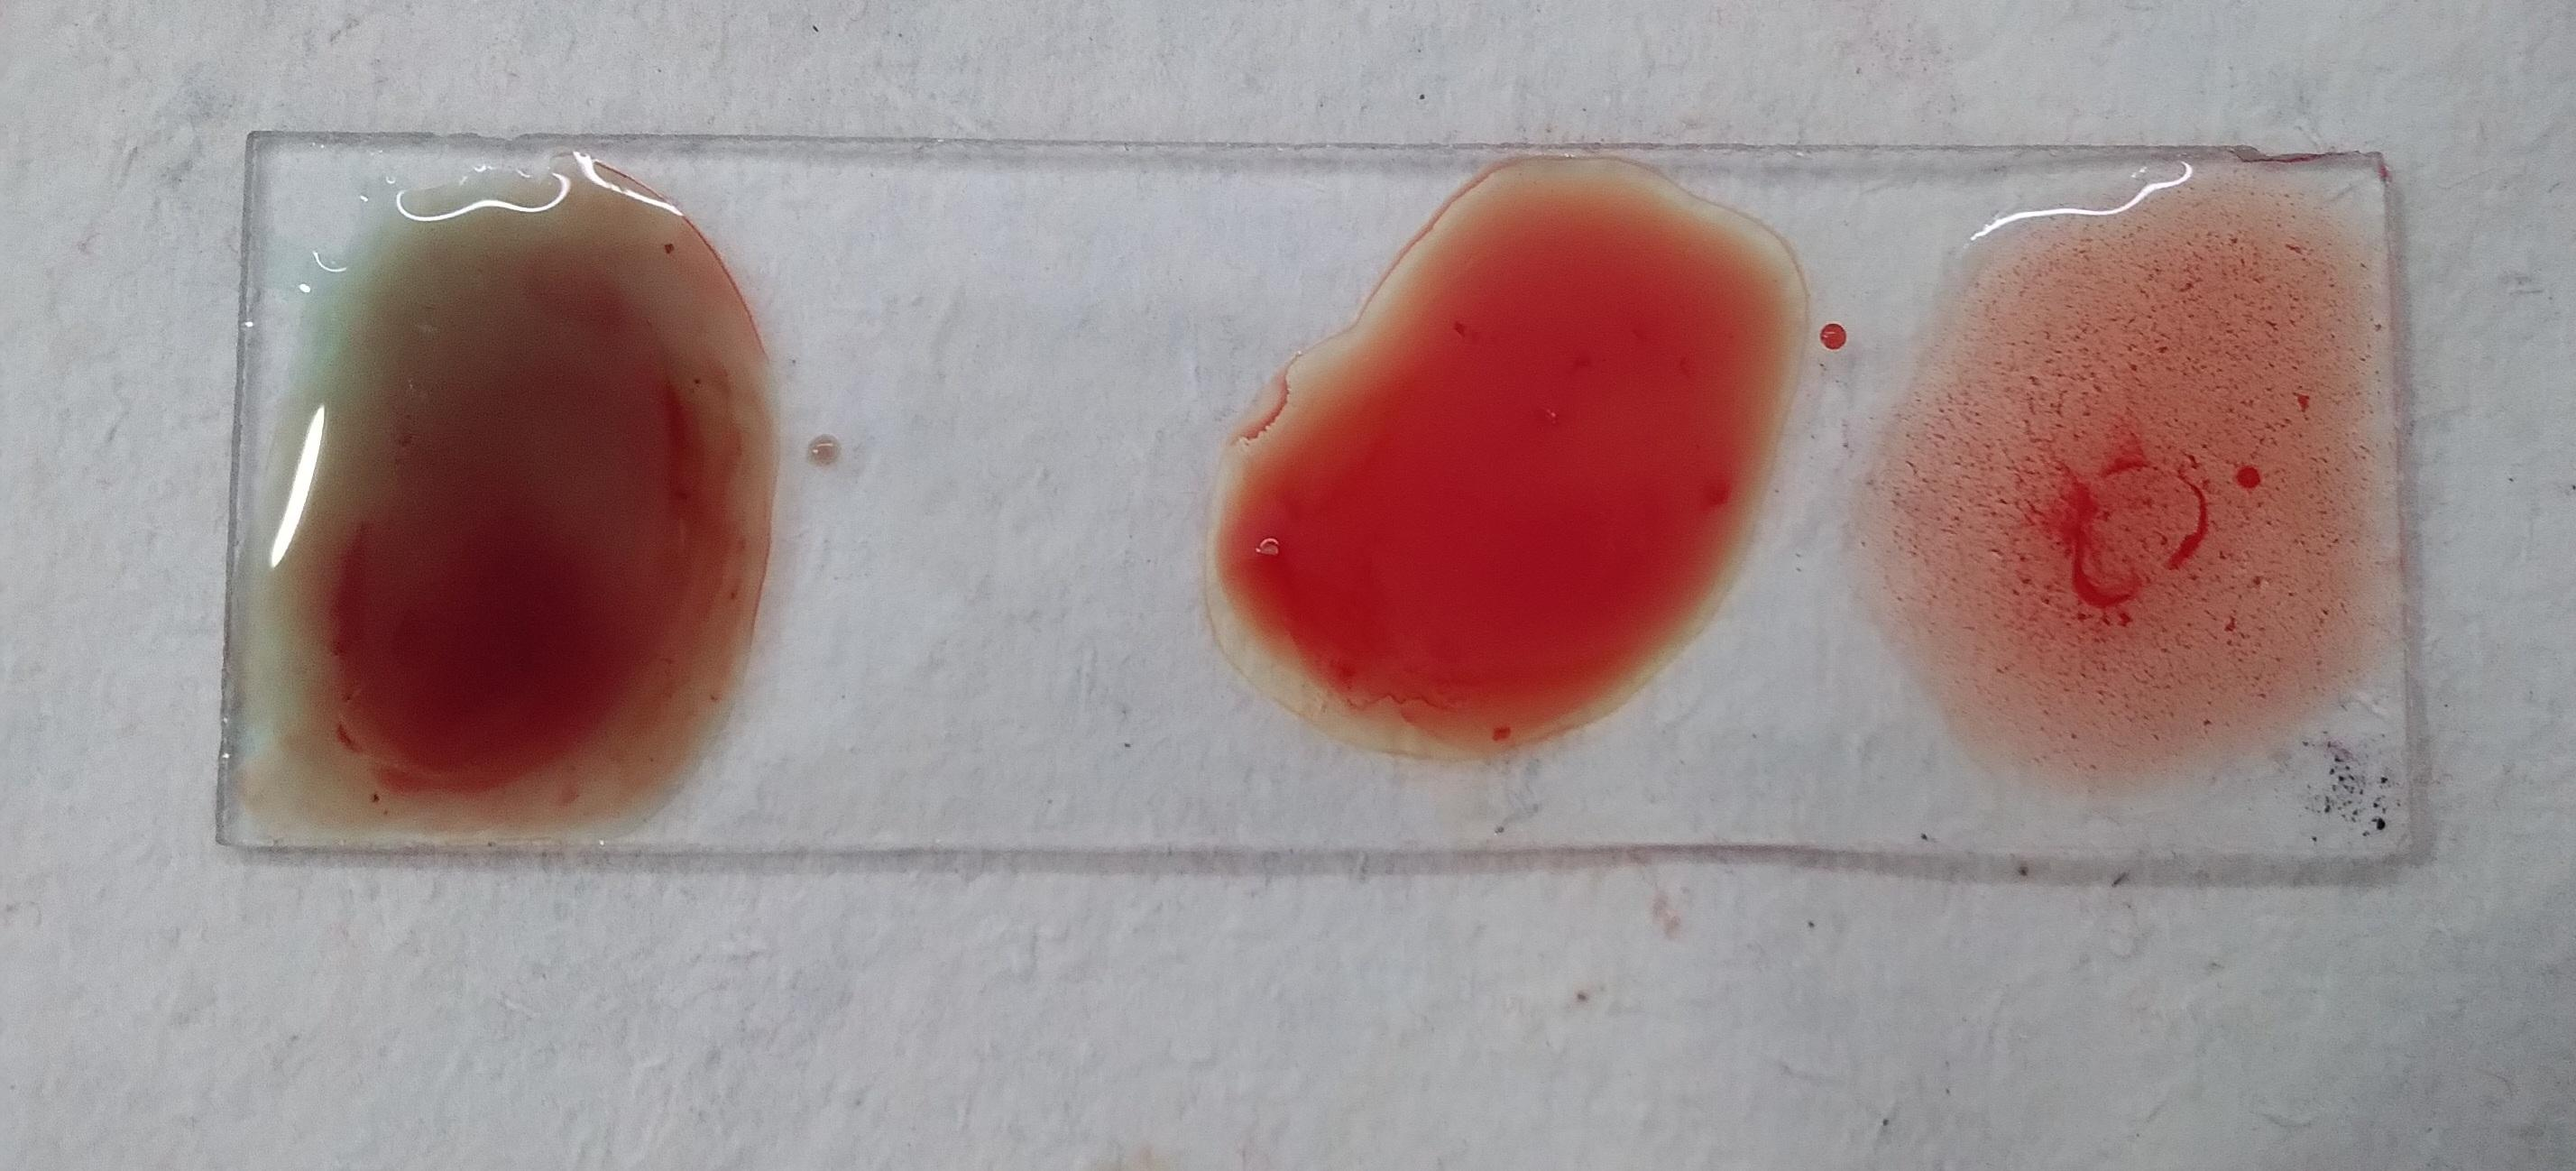D: (1909, 181, 2384, 767)
